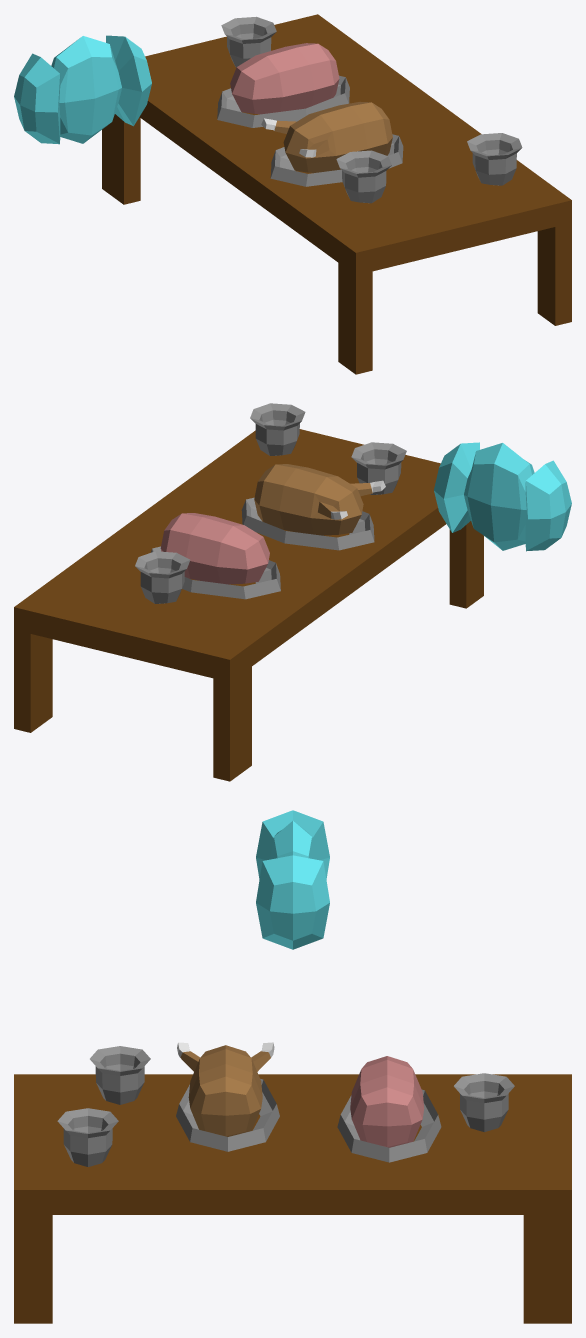
Rendered from endGameModels.fbx.
3 renders of one model, top to bottom at view 1: azimuth 30°, elevation 25°; view 2: azimuth 150°, elevation 25°; view 3: azimuth 270°, elevation 25°, orthographic. The views are drawn at different scales.
Parts seen in each view (by area): view 1: table, fairy, MEAT, MEAT.001, BOWL, BOWL.002, plate, BOWL.001, plagte; view 2: table, fairy, MEAT.001, MEAT, plagte, BOWL.001, BOWL, BOWL.002, plate; view 3: table, fairy, MEAT.001, MEAT, BOWL, BOWL.002, BOWL.001, plate, plagte.
Boxes of the visible parts, x1,y1,x2,y2 form: table: (102,14,571,374); fairy: (14,35,151,144); MEAT: (230,43,339,114); MEAT.001: (274,101,392,172); BOWL: (467,133,522,185); BOWL.002: (336,150,391,203); plate: (217,75,349,127); BOWL.001: (221,16,276,67); plagte: (270,134,403,186); table: (14,429,483,781); fairy: (434,442,571,551); MEAT.001: (254,464,372,535); MEAT: (160,513,269,584); plagte: (241,497,374,550); BOWL.001: (135,551,190,603); BOWL: (250,403,305,455); BOWL.002: (351,442,406,494); plate: (151,546,280,599); table: (14,1074,571,1323); fairy: (256,810,329,949); MEAT.001: (180,1045,270,1136); MEAT: (350,1056,424,1147); BOWL: (57,1108,118,1166); BOWL.002: (90,1046,150,1104); BOWL.001: (454,1073,514,1132); plate: (337,1089,441,1162); plagte: (176,1079,279,1151).
Size of the model in its own units: 1935 by 1226 by 2004.
